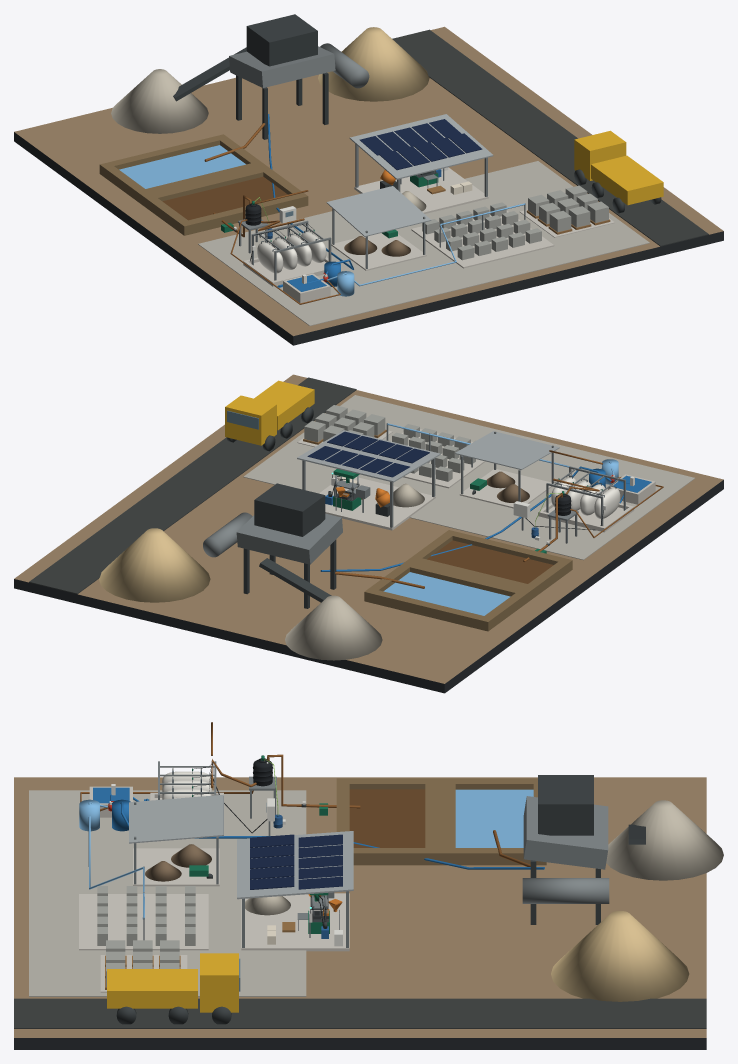
Rendered from mineloop_ar.glb.
3 renders of one model, top to bottom at view 1: azimuth 30°, elevation 25°; view 2: azimuth 150°, elevation 25°; view 3: azimuth 270°, elevation 25°, orthographic. The views are drawn at different scales.
Parts seen in each view (by area): view 1: Context_static, Z6_Curing_static, Z5_Press_static, Cake_roof, Pit_sludge, Truck_bed, Shed_roof, Pipes_static, Z2_Bags_static, Z4_Cake_static, Truck_cab, Z3_Grader_static (+2 smaller); view 2: Context_static, Z5_Press_static, Z6_Curing_static, Pit_sludge, Cake_roof, Pipes_static, Z2_Bags_static, Shed_roof, Truck_cab, Z4_Cake_static, Truck_bed, Geobag_0 (+1 smaller); view 3: Context_static, Z6_Curing_static, Z5_Press_static, Pit_sludge, Cake_roof, Truck_bed, Shed_roof, Pipes_static, Truck_cab, Z4_Cake_static, Z2_Bags_static, Cake_heap_1 (+3 smaller).
Part boxes in pixels (x1,y1,x2,y2): Context_static: (14, 14, 723, 345); Z6_Curing_static: (411, 202, 554, 268); Z5_Press_static: (354, 144, 488, 213); Cake_roof: (326, 186, 431, 236); Pit_sludge: (162, 176, 287, 220); Truck_bed: (591, 155, 663, 205); Shed_roof: (349, 114, 493, 179); Pipes_static: (204, 114, 525, 304); Z2_Bags_static: (243, 220, 332, 287); Z4_Cake_static: (331, 208, 426, 270); Truck_cab: (574, 130, 626, 180); Z3_Grader_static: (283, 273, 330, 303); Context_static: (14, 374, 723, 693); Z5_Press_static: (302, 458, 435, 530); Z6_Curing_static: (386, 423, 485, 488); Pit_sludge: (427, 540, 553, 583); Cake_roof: (455, 431, 559, 469); Pipes_static: (320, 423, 663, 588); Z2_Bags_static: (525, 466, 634, 532); Shed_roof: (297, 430, 440, 482); Truck_cab: (225, 395, 276, 445); Z4_Cake_static: (459, 431, 554, 508); Truck_bed: (254, 380, 314, 430); Geobag_0: (594, 488, 620, 518); Context_static: (14, 775, 723, 1049); Z6_Curing_static: (79, 866, 208, 950); Z5_Press_static: (241, 891, 349, 951); Pit_sludge: (349, 789, 425, 847); Cake_roof: (129, 794, 223, 843); Truck_bed: (107, 969, 197, 1008); Shed_roof: (237, 831, 353, 899); Pipes_static: (80, 722, 544, 919); Truck_cab: (200, 953, 238, 1012); Z4_Cake_static: (133, 802, 219, 886); Z2_Bags_static: (144, 761, 267, 833); Cake_heap_1: (171, 844, 211, 867).
Size of the model in its own units: 28.5 by 6.5 by 32.8.
